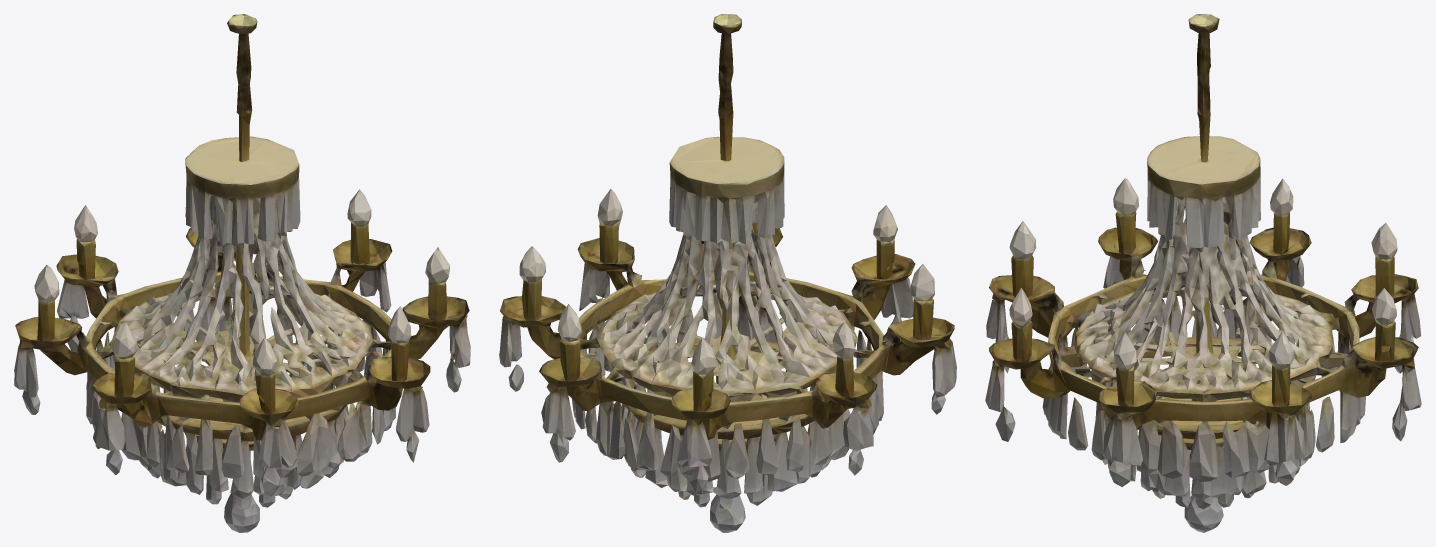
The model's file is ballroom_chandelier.glb.
3 renders of one model, left to right at view 1: azimuth 30°, elevation 25°; view 2: azimuth 150°, elevation 25°; view 3: azimuth 270°, elevation 25°, orthographic.
Visible parts, largest first — view 1: geometry_0; view 2: geometry_0; view 3: geometry_0.
Boxes of the visible parts, x1,y1,x2,y2 form: geometry_0: (14, 14, 470, 532); geometry_0: (499, 14, 956, 532); geometry_0: (985, 14, 1421, 532).
Bounding box in the file's own units: 0.7598 × 0.9959 × 0.7681.
1 material, 1 textured.
